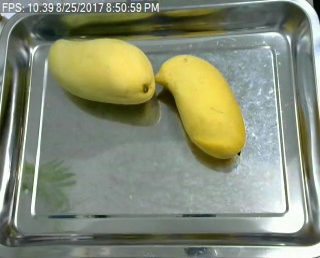Mango: (152, 41, 249, 166), (49, 31, 159, 105)
